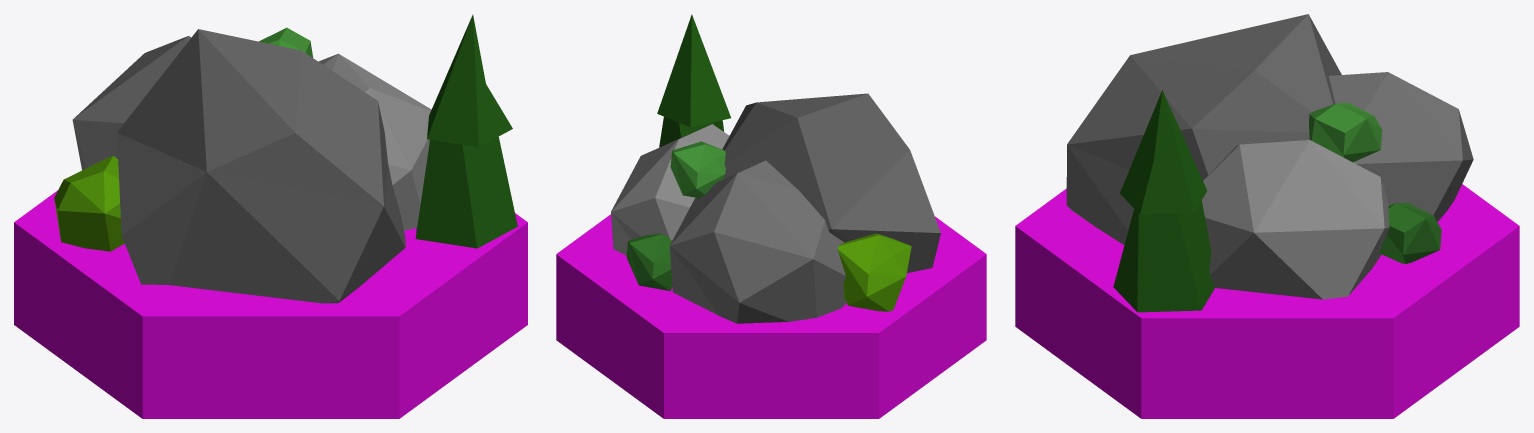
The model's file is Stone3.fbx.
The picture shows the model from 3 angles, left to right: view 1: azimuth 30°, elevation 25°; view 2: azimuth 150°, elevation 25°; view 3: azimuth 270°, elevation 25°; orthographic projection. The views are drawn at different scales.
Parts seen in each view (by area): view 1: Cylinder; view 2: Cylinder; view 3: Cylinder.
Boxes of the visible parts, x1,y1,x2,y2 form: Cylinder: [14, 14, 527, 418]; Cylinder: [556, 14, 986, 418]; Cylinder: [1015, 14, 1519, 418].
Size of the model in its own units: 173 by 135 by 200.
